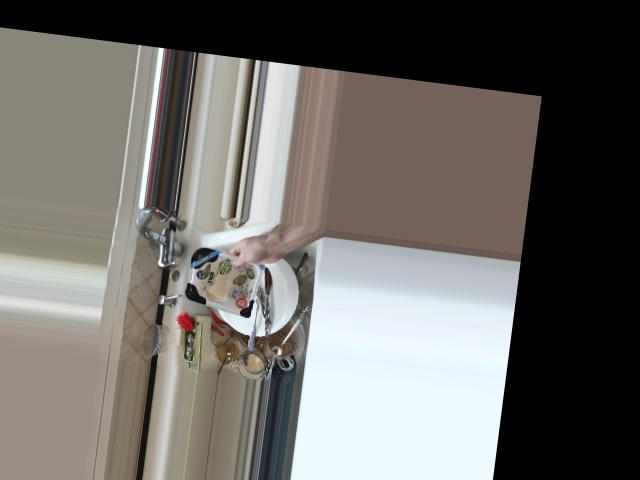cheese: (178, 226, 279, 318)
